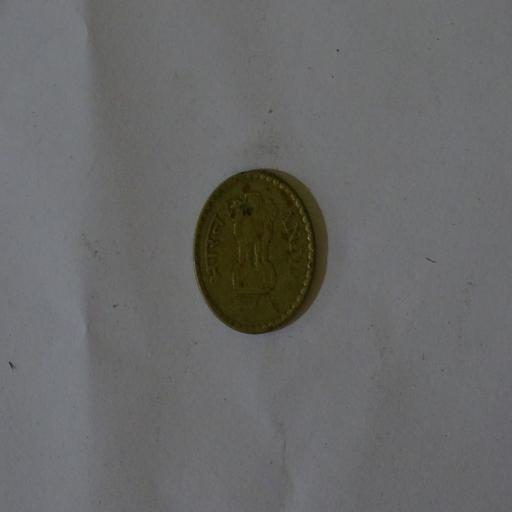rupee5: (191, 168, 319, 337)
